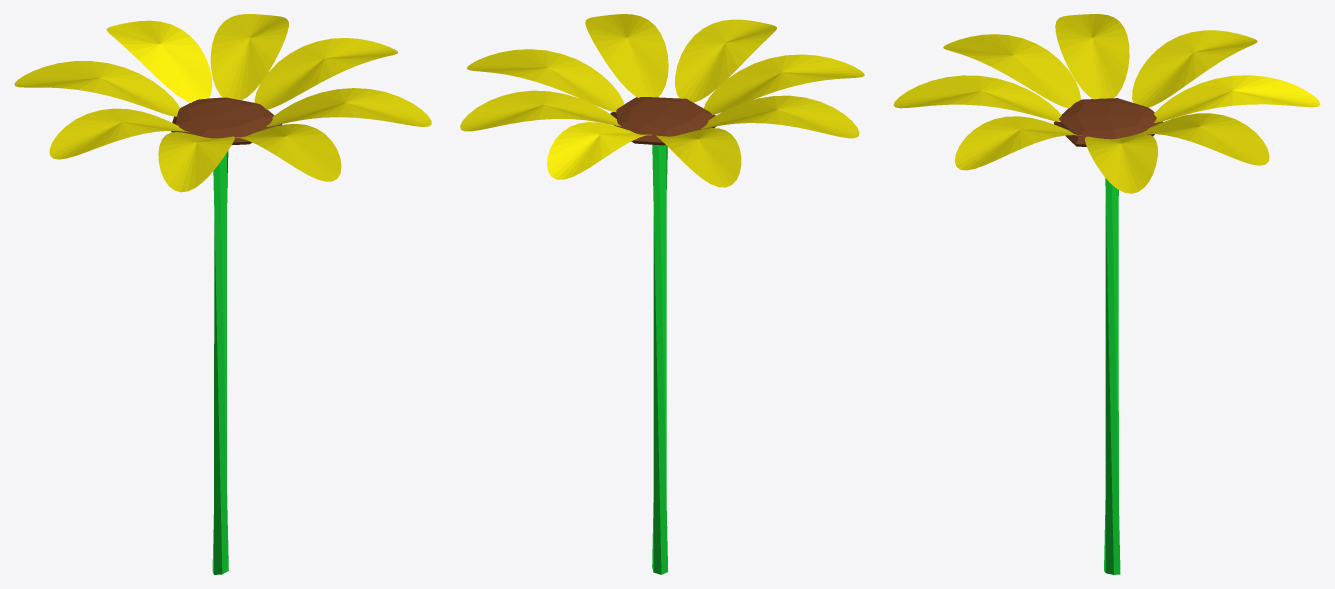
3 views of the same model, side by side, from view 1: azimuth 30°, elevation 25°; view 2: azimuth 150°, elevation 25°; view 3: azimuth 270°, elevation 25° (orthographic).
Visible parts, largest first — view 1: Cylinder, Circle.004, Circle.001, Circle.005, Circle.007, Circle.008, Circle.006, Plane, Circle.002, Circle.003; view 2: Cylinder, Circle.008, Circle.002, Circle.005, Circle.003, Circle.004, Circle.006, Plane, Circle.001, Circle.007; view 3: Cylinder, Circle.006, Circle.007, Circle.003, Circle.001, Circle.002, Circle.004, Circle.008, Plane, Circle.005.
Boxes of the visible parts, box(x1,y1,x2,y2) form: Cylinder: box(212, 151, 228, 574); Circle.004: box(210, 14, 288, 100); Circle.001: box(106, 20, 212, 102); Circle.005: box(254, 38, 397, 109); Circle.007: box(14, 61, 180, 116); Circle.008: box(266, 88, 431, 126); Circle.006: box(49, 108, 190, 159); Plane: box(171, 97, 282, 144); Circle.002: box(235, 124, 341, 181); Circle.003: box(158, 132, 234, 192); Cylinder: box(652, 144, 668, 574); Circle.008: box(585, 14, 668, 97); Circle.002: box(675, 19, 776, 102); Circle.005: box(467, 49, 624, 112); Circle.003: box(704, 54, 864, 114); Circle.004: box(460, 90, 621, 131); Circle.006: box(701, 95, 859, 138); Plane: box(610, 97, 715, 145); Circle.001: box(547, 122, 651, 179); Circle.007: box(656, 128, 741, 187); Cylinder: box(1104, 178, 1120, 574); Circle.006: box(1055, 14, 1129, 99); Circle.007: box(1132, 30, 1257, 107); Circle.003: box(943, 34, 1080, 108); Circle.001: box(1154, 75, 1320, 122); Circle.002: box(893, 75, 1061, 121); Circle.004: box(1134, 113, 1269, 165); Circle.008: box(955, 116, 1081, 170); Plane: box(1053, 98, 1162, 146); Circle.005: box(1085, 134, 1157, 193).
Bounding box in the file's own units: 1.71 × 2.16 × 1.72.
